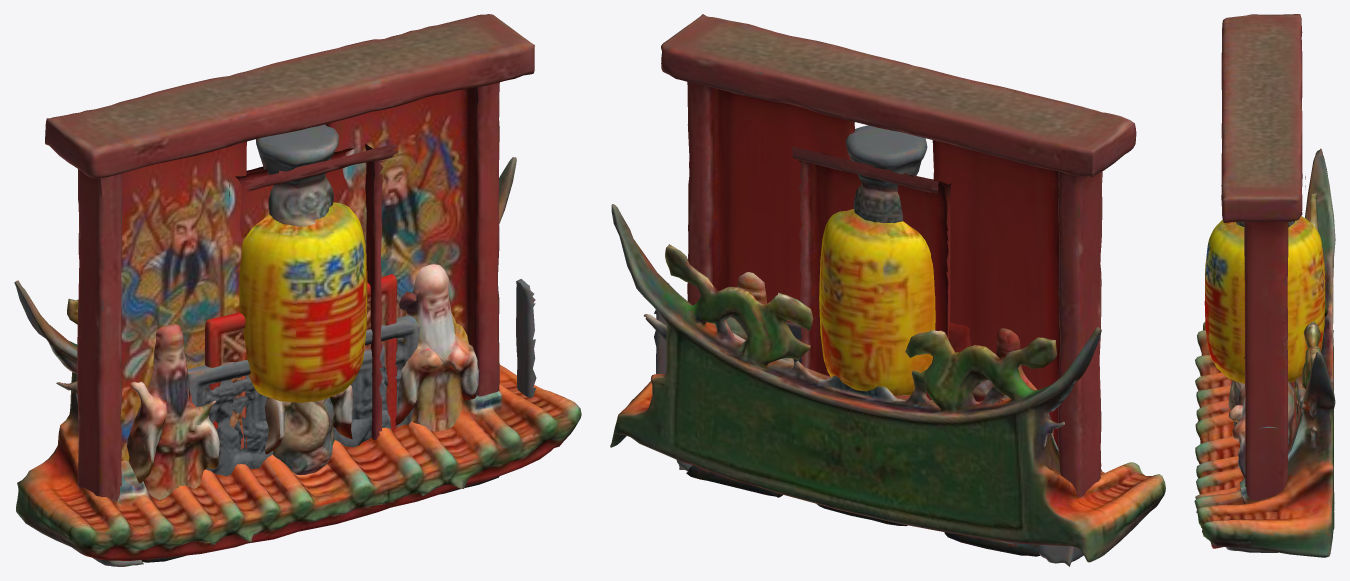
File: decor-lite.glb
The picture shows the model from 3 angles, left to right: view 1: azimuth 30°, elevation 25°; view 2: azimuth 150°, elevation 25°; view 3: azimuth 270°, elevation 25°; orthographic projection. The views are drawn at different scales.
Parts seen in each view (by area): view 1: door, ridge, lantern, fls, pillar, panel, leafR, win, panel2, leafL; view 2: door, ridge, lantern, leafR, pillar, leafL, fls; view 3: door, ridge, lantern, fls, pillar.
Boxes of the visible parts, left/top/right/bottom form: door: left=45, top=14, right=536, bottom=566; ridge: left=14, top=157, right=581, bottom=560; lantern: left=239, top=202, right=367, bottom=402; fls: left=127, top=264, right=499, bottom=562; pillar: left=256, top=124, right=338, bottom=474; panel: left=189, top=318, right=418, bottom=476; leafR: left=229, top=143, right=398, bottom=440; win: left=205, top=274, right=397, bottom=449; panel2: left=187, top=315, right=420, bottom=475; leafL: left=228, top=145, right=394, bottom=272; door: left=654, top=14, right=1136, bottom=566; ridge: left=610, top=204, right=1165, bottom=562; lantern: left=819, top=209, right=935, bottom=395; leafR: left=792, top=146, right=952, bottom=376; pillar: left=845, top=125, right=927, bottom=223; leafL: left=817, top=151, right=948, bottom=400; fls: left=686, top=272, right=1053, bottom=556; door: left=1221, top=14, right=1302, bottom=552; ridge: left=1194, top=148, right=1335, bottom=557; lantern: left=1204, top=216, right=1325, bottom=383; fls: left=1228, top=357, right=1296, bottom=479; pillar: left=1228, top=221, right=1294, bottom=426.
Bounding box in the file's own units: 0.3974 × 0.318 × 0.1119.
Materials: 1 (1 with a texture image).
